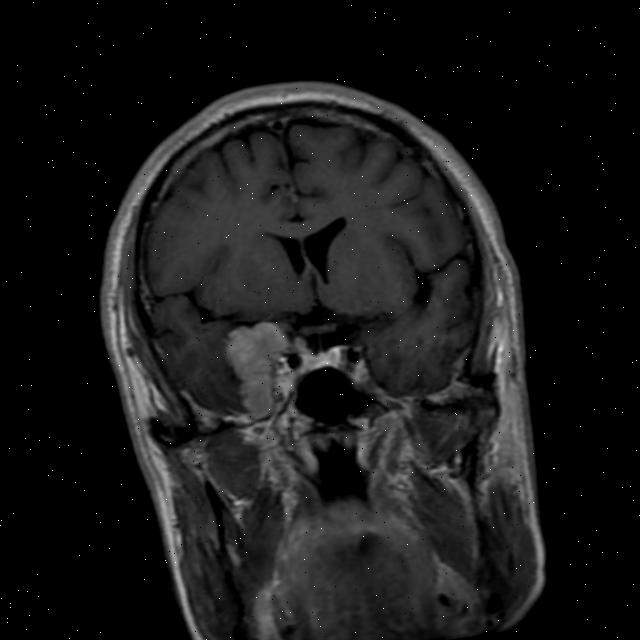Meningioma: (218, 314, 302, 427)
